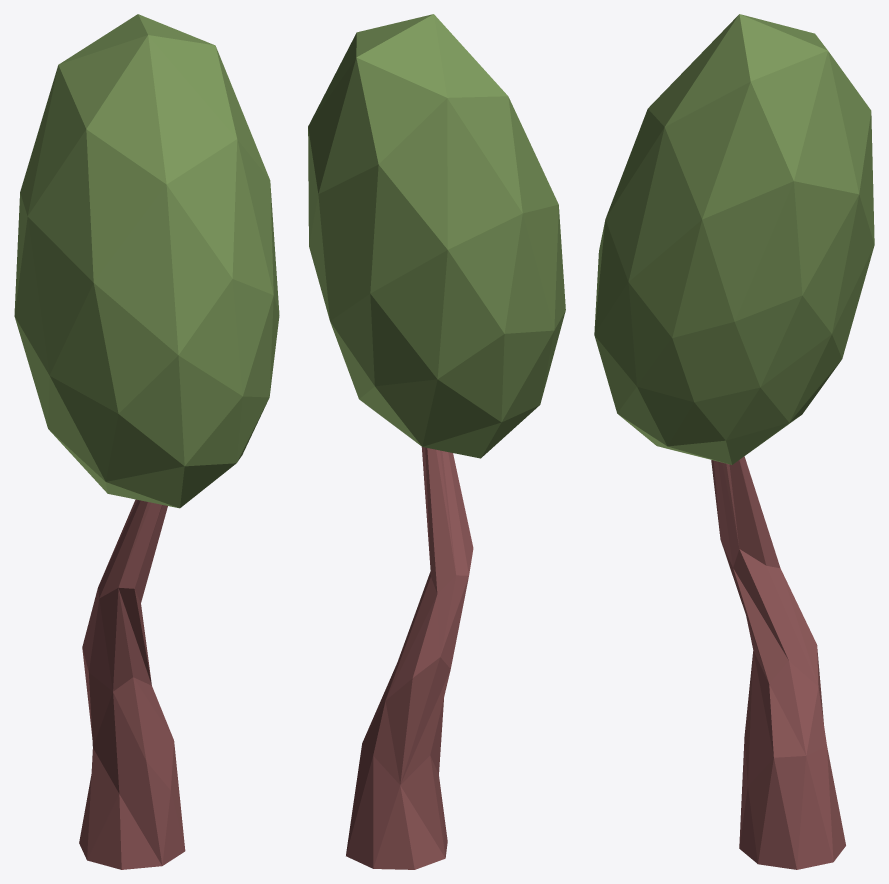
File: Poplar Tree_6.fbx
The picture shows the model from 3 angles, left to right: view 1: azimuth 30°, elevation 25°; view 2: azimuth 150°, elevation 25°; view 3: azimuth 270°, elevation 25°; orthographic projection.
Parts seen in each view (by area): view 1: Poplar Tree_6; view 2: Poplar Tree_6; view 3: Poplar Tree_6.
Part boxes in pixels (left/top/right/bottom): Poplar Tree_6: left=14, top=14, right=279, bottom=869; Poplar Tree_6: left=308, top=14, right=565, bottom=869; Poplar Tree_6: left=594, top=14, right=874, bottom=869.
Bounding box in the file's own units: 1.37 × 4.94 × 1.52.
